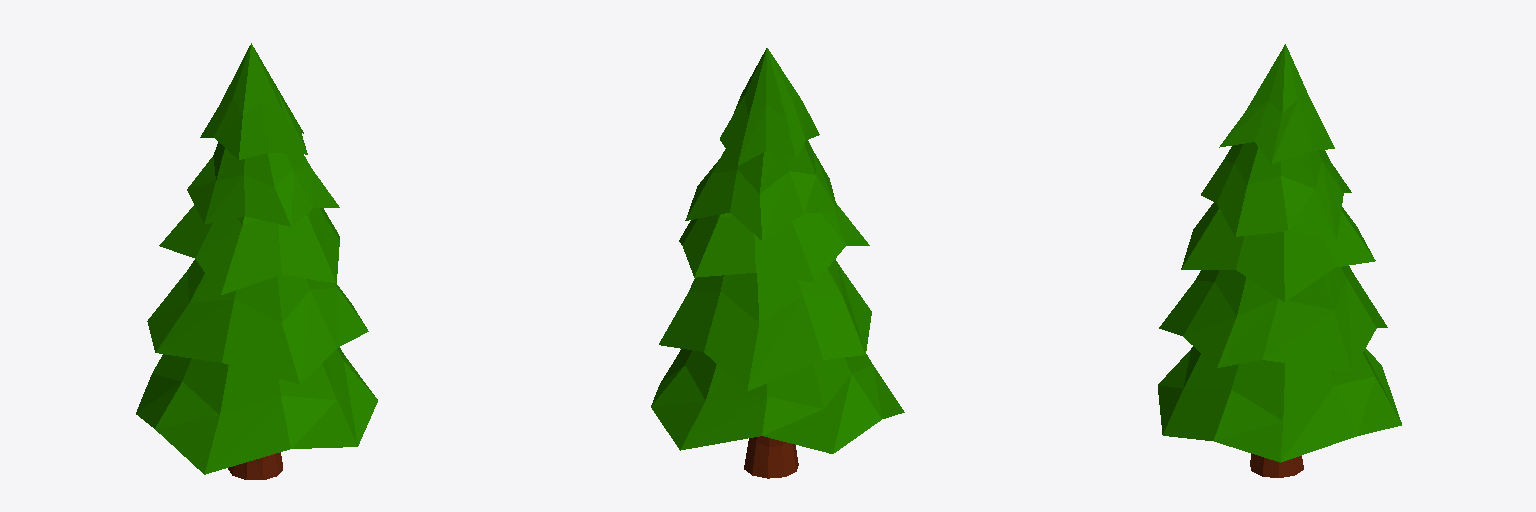
The picture shows the model from 3 angles: view 1: azimuth 30°, elevation 25°; view 2: azimuth 150°, elevation 25°; view 3: azimuth 270°, elevation 25°; orthographic projection.
Parts seen in each view (by area): view 1: cassay.001; view 2: cassay.001; view 3: cassay.001.
Part boxes in pixels (left/top/right/bottom): cassay.001: left=136, top=43, right=377, bottom=479; cassay.001: left=651, top=48, right=904, bottom=478; cassay.001: left=1158, top=44, right=1401, bottom=477.
Size of the model in its own units: 0.0777 by 0.1457 by 0.0765.
Materials: 1 (1 with a texture image).